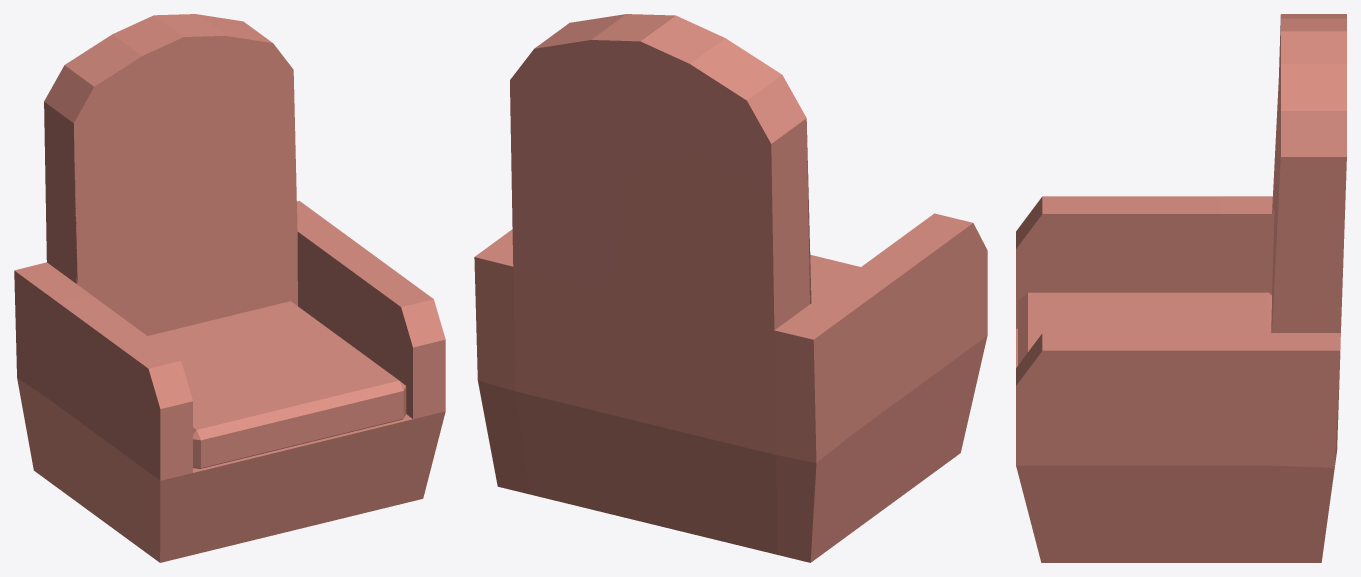
File: armchair.glb
3 views of the same model, side by side, from view 1: azimuth 30°, elevation 25°; view 2: azimuth 150°, elevation 25°; view 3: azimuth 270°, elevation 25° (orthographic). The views are drawn at different scales.
Visible parts, largest first — view 1: Armchair; view 2: Armchair; view 3: Armchair.
Part boxes in pixels (left/top/right/bottom): Armchair: left=14, top=14, right=445, bottom=562; Armchair: left=474, top=14, right=987, bottom=562; Armchair: left=1016, top=14, right=1346, bottom=562.
Bounding box in the file's own units: 0.9874 × 1.37 × 0.8938.
Materials: 1 (1 with a texture image).
